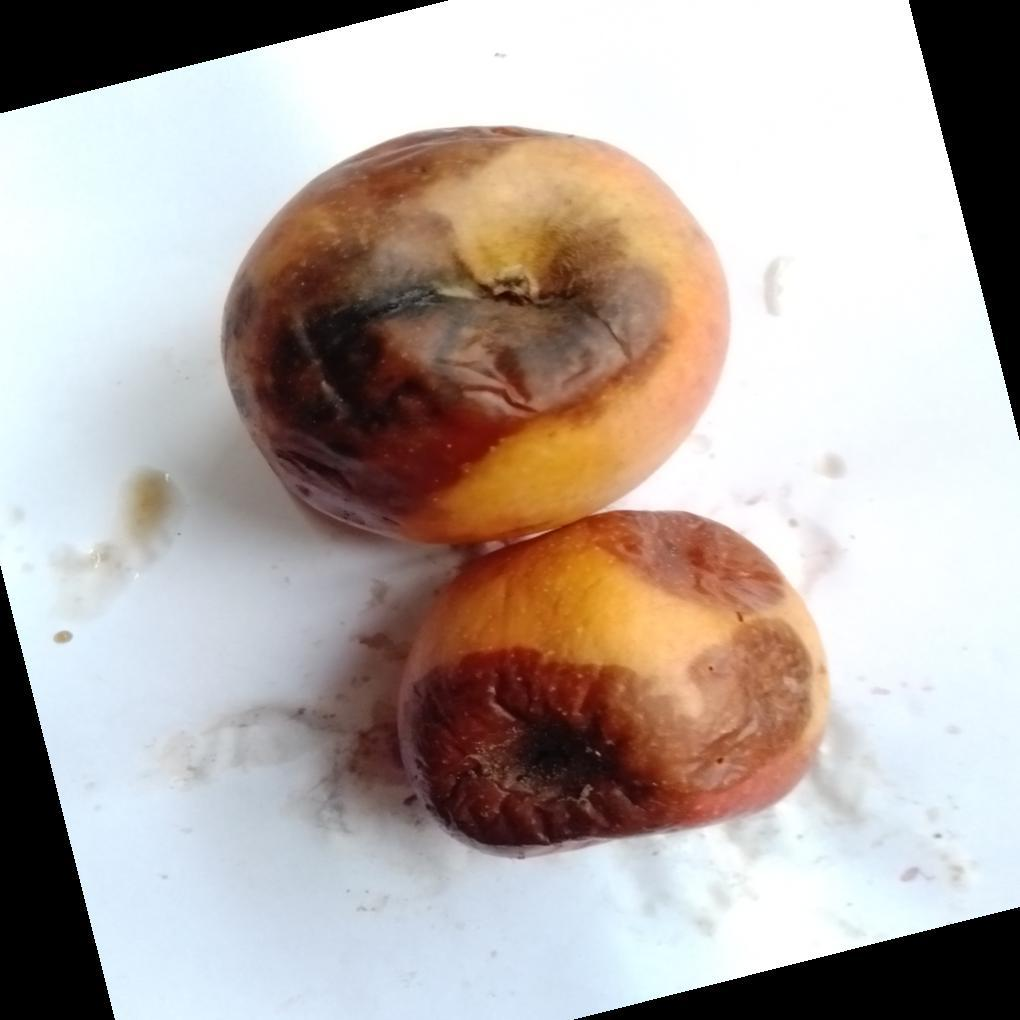FreshOrange: (218, 126, 832, 855)
